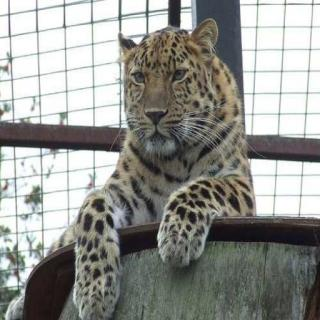-: (97, 32, 270, 306)
